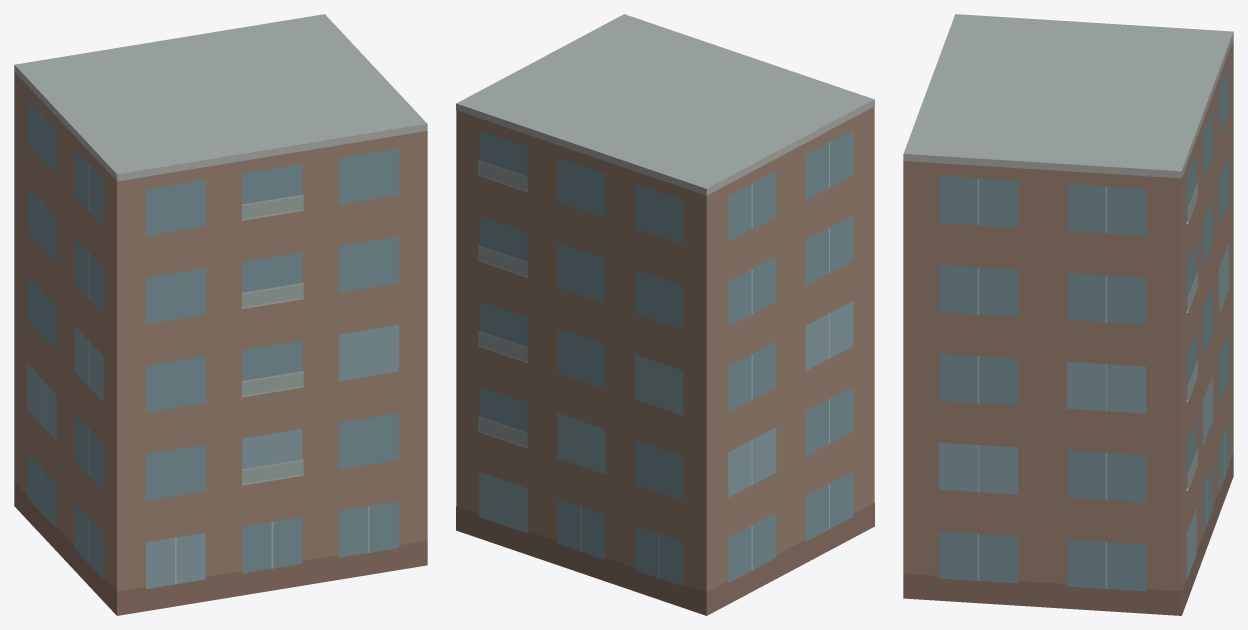
File: survey-upis-32680170.glb
The picture shows the model from 3 angles, left to right: view 1: azimuth 30°, elevation 25°; view 2: azimuth 150°, elevation 25°; view 3: azimuth 270°, elevation 25°; orthographic projection. The views are drawn at different scales.
Parts seen in each view (by area): view 1: survey-upis-32680170.tmp; view 2: survey-upis-32680170.tmp; view 3: survey-upis-32680170.tmp.
Part boxes in pixels (x1,y1,x2,y2): survey-upis-32680170.tmp: [14, 14, 427, 615]; survey-upis-32680170.tmp: [456, 14, 874, 615]; survey-upis-32680170.tmp: [903, 14, 1233, 615].
Size of the model in its own units: 11.66 by 15.35 by 10.34.
